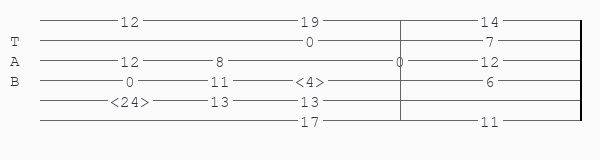0: (125, 73, 139, 87), (305, 33, 319, 47), (395, 53, 409, 67)
11: (210, 73, 234, 87), (480, 113, 504, 127)
12: (120, 13, 144, 27), (120, 53, 144, 67), (480, 53, 504, 67)
13: (210, 93, 234, 107), (300, 93, 324, 107)
14: (480, 13, 504, 27)
17: (300, 113, 324, 127)
19: (300, 13, 324, 27)
6: (485, 73, 499, 87)
7: (485, 33, 499, 47)
8: (215, 53, 229, 67)
harmonic: (110, 93, 154, 108), (295, 73, 329, 88)
